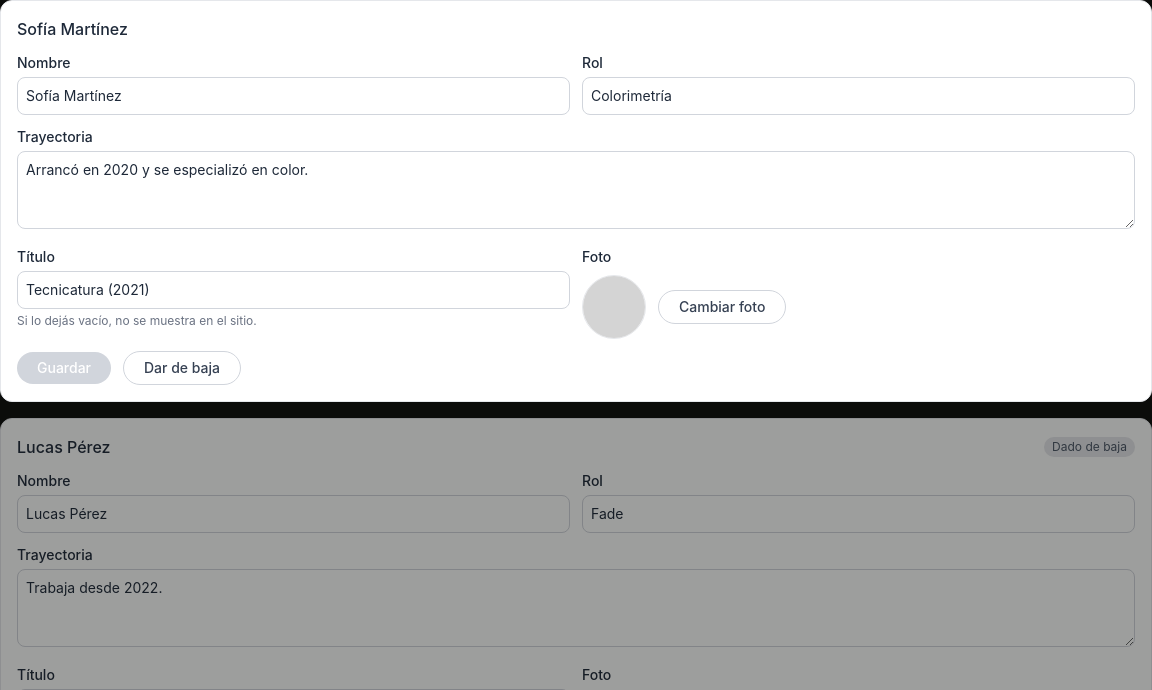
Test: SeccionStaffComponent › dar de baja y volver a publicar › dar de baja manda activo en false y deja la fila apagada con volver a publicar
Step 1. Click the button "Dar de baja" → (182, 368), box [123, 351, 241, 385]
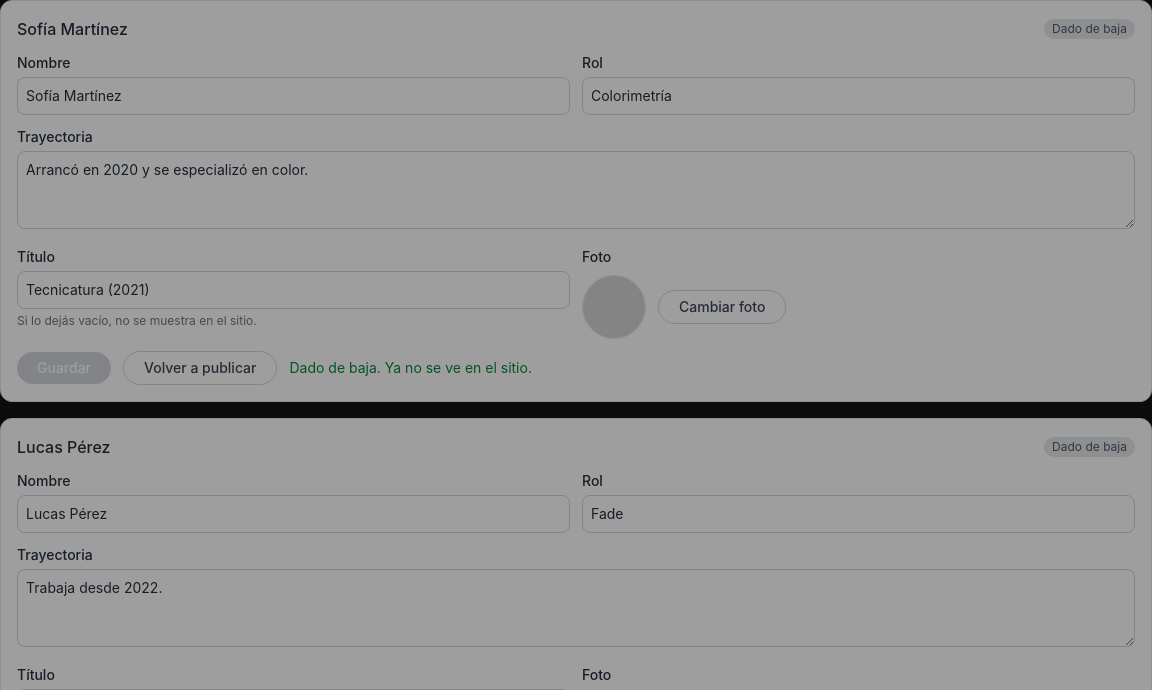
expect the button "Volver a publicar" is shown: met, box [123, 351, 278, 385]
expect the list item that starts with "Sofía Martínez" shows "Dado de baja": met, box [1052, 21, 1127, 36]
expect the list item that starts with "Sofía Martínez" shows "Dado de baja. Ya no se ve en el sitio.": met, box [290, 359, 532, 376]
